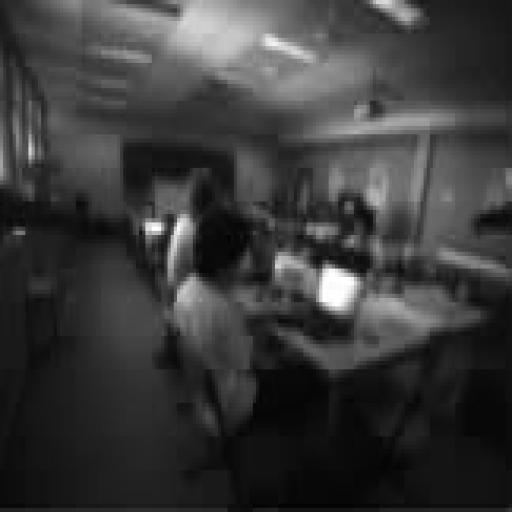human: (174, 206, 322, 432), (155, 168, 218, 365)
